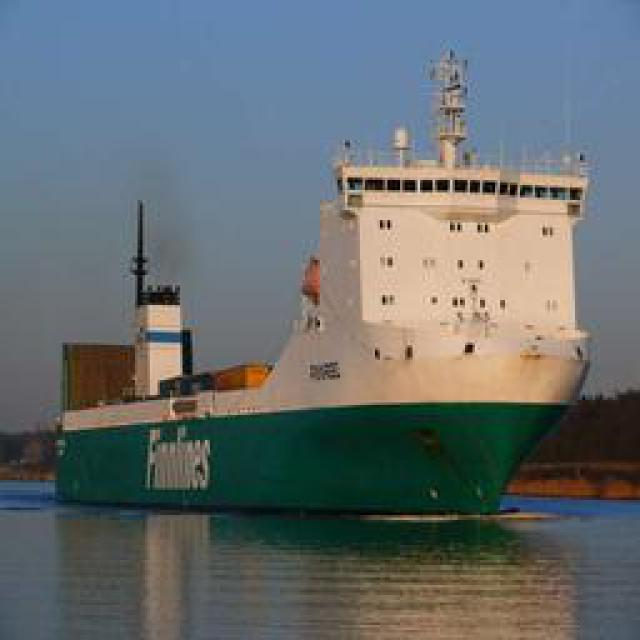Ship: (36, 93, 596, 511)
